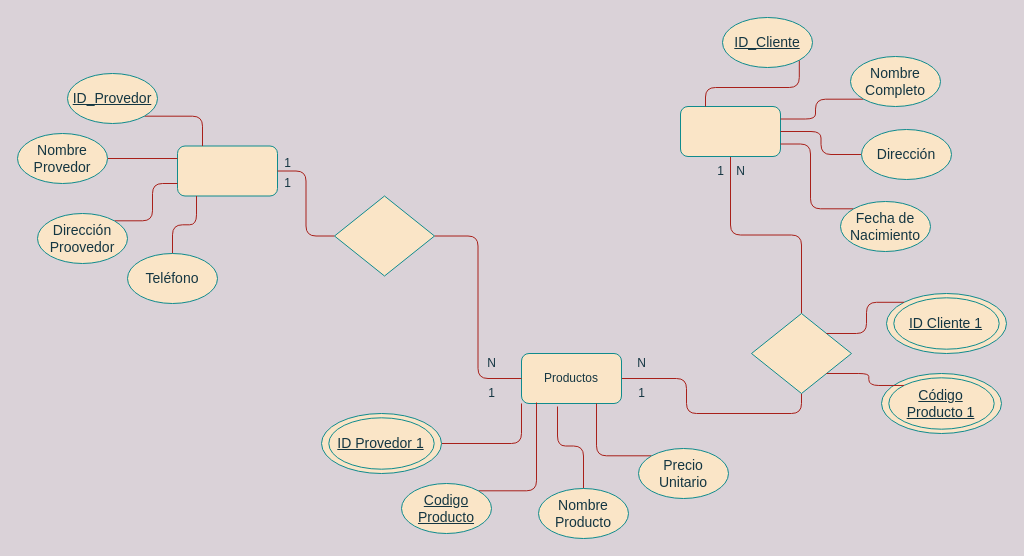
This 1024x556 diagram has some shape labels left out. The centre of each missing label's shape, as x and y in pixels:
Clientes: the point at 730,131
Proveedores: the point at 227,170
Suministro 1:N: the point at 384,235
Transacción N:M: the point at 801,353
